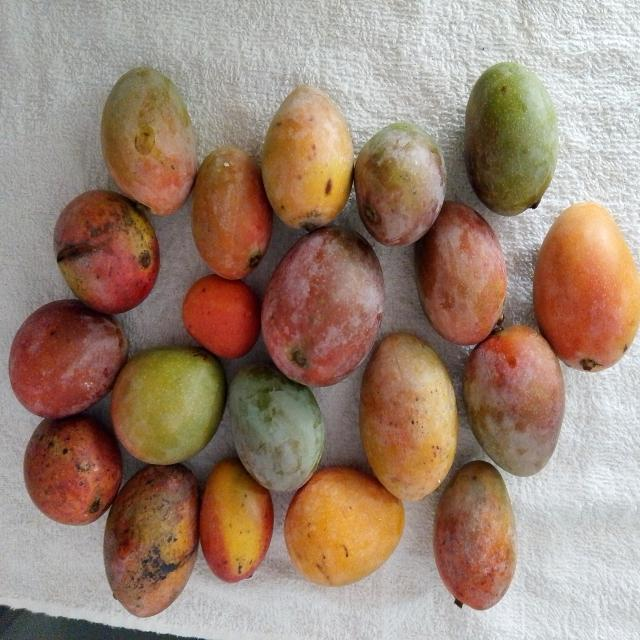mango: (262, 227, 384, 386), (533, 203, 639, 371), (360, 333, 457, 500), (464, 326, 564, 476), (9, 295, 128, 421), (104, 465, 199, 617), (465, 62, 558, 215), (101, 68, 197, 215), (285, 468, 404, 586), (111, 347, 226, 464), (262, 85, 353, 231), (415, 201, 506, 344), (54, 190, 159, 313), (434, 461, 517, 610), (229, 363, 325, 490), (355, 123, 446, 245), (24, 415, 122, 524), (192, 147, 272, 279), (200, 459, 273, 582), (180, 273, 264, 365)
